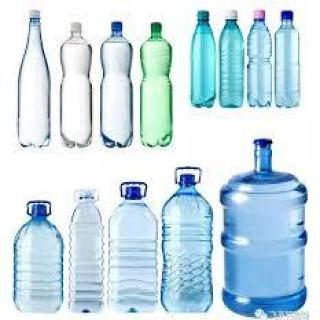Plastic-bottle: (162, 163, 215, 317), (108, 179, 160, 317), (12, 198, 66, 317), (18, 9, 53, 151), (99, 20, 136, 152), (140, 19, 177, 151), (70, 188, 107, 318), (60, 20, 94, 154), (188, 9, 218, 112), (219, 9, 247, 112), (276, 10, 303, 111), (249, 9, 275, 111)
